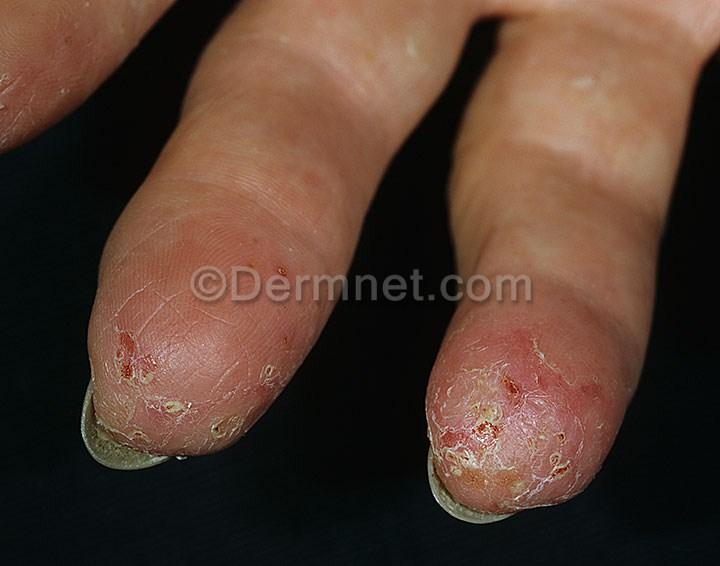Eczema: (367, 343, 601, 526), (65, 324, 236, 500)
